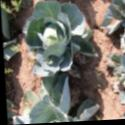cabbage: (37, 20, 63, 50)
